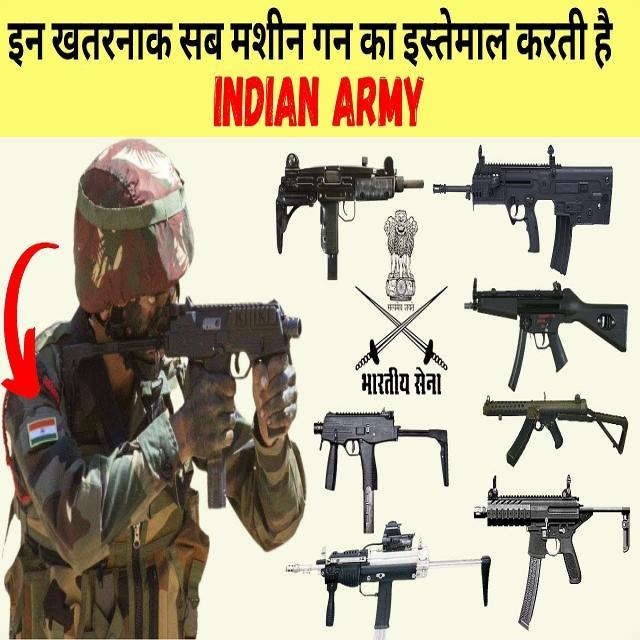rifle: (429, 149, 623, 269)
scope: (369, 514, 425, 553)
smg: (63, 292, 299, 433), (477, 480, 630, 618), (283, 542, 495, 629), (270, 154, 421, 275), (470, 273, 626, 380), (312, 410, 459, 523), (478, 390, 632, 466)
sword: (349, 276, 458, 387), (350, 282, 452, 379)
